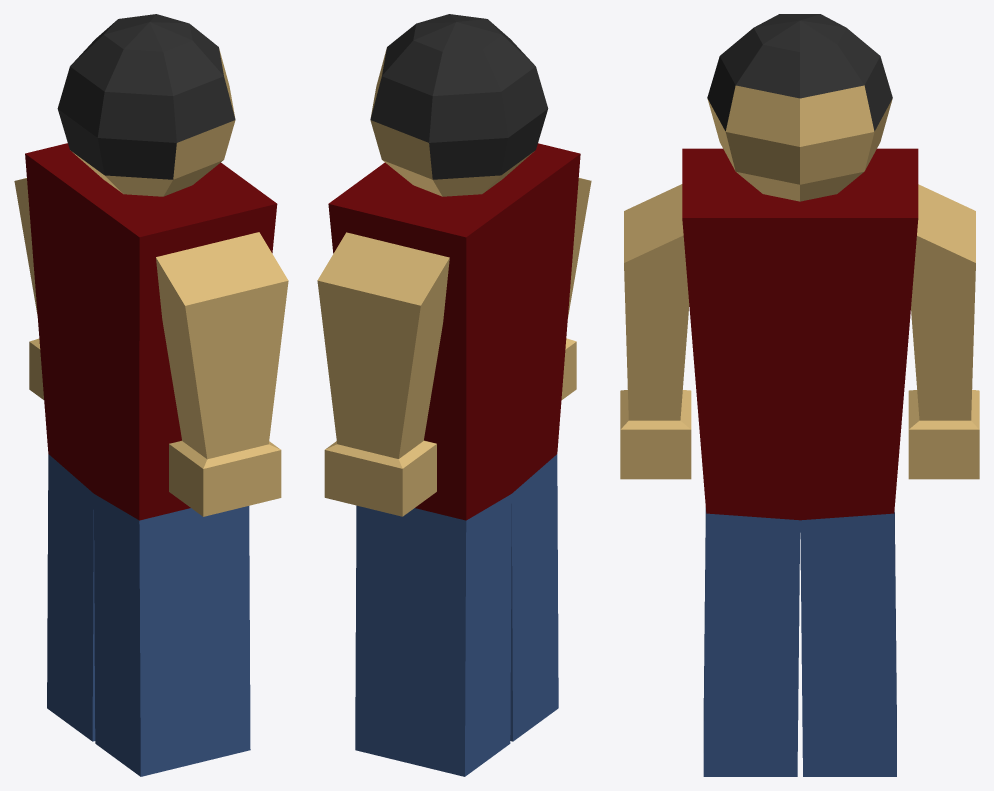
Rendered from mini_gymnast.fbx.
3 renders of one model, left to right at view 1: azimuth 30°, elevation 25°; view 2: azimuth 150°, elevation 25°; view 3: azimuth 270°, elevation 25°, orthographic. The views are drawn at different scales.
Visible parts, largest first — view 1: mini_gymnast; view 2: mini_gymnast; view 3: mini_gymnast.
Part boxes in pixels (x1,y1,x2,y2): mini_gymnast: [14, 14, 288, 776]; mini_gymnast: [317, 14, 591, 776]; mini_gymnast: [620, 14, 979, 776].
Size of the model in its own units: 54.67 by 27.55 by 123.
